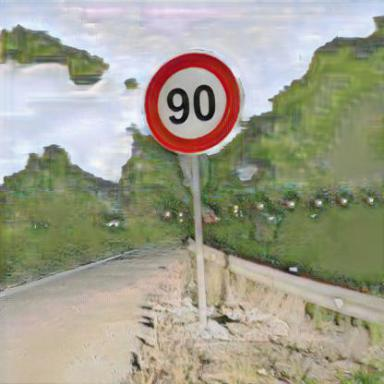Speed_limit_90: (150, 59, 237, 151)
